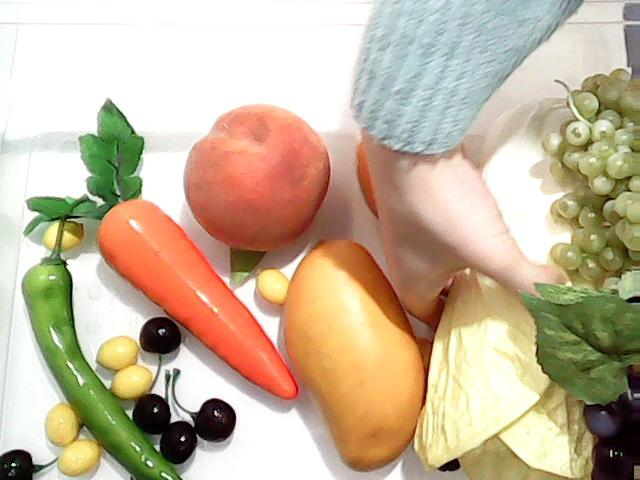carrot: (21, 98, 299, 403)
grape: (539, 63, 640, 293), (530, 282, 640, 480)
mango: (279, 238, 426, 472)
napa cabbage: (414, 100, 640, 480)
peach: (183, 103, 333, 251)
pepper: (18, 180, 182, 480)
